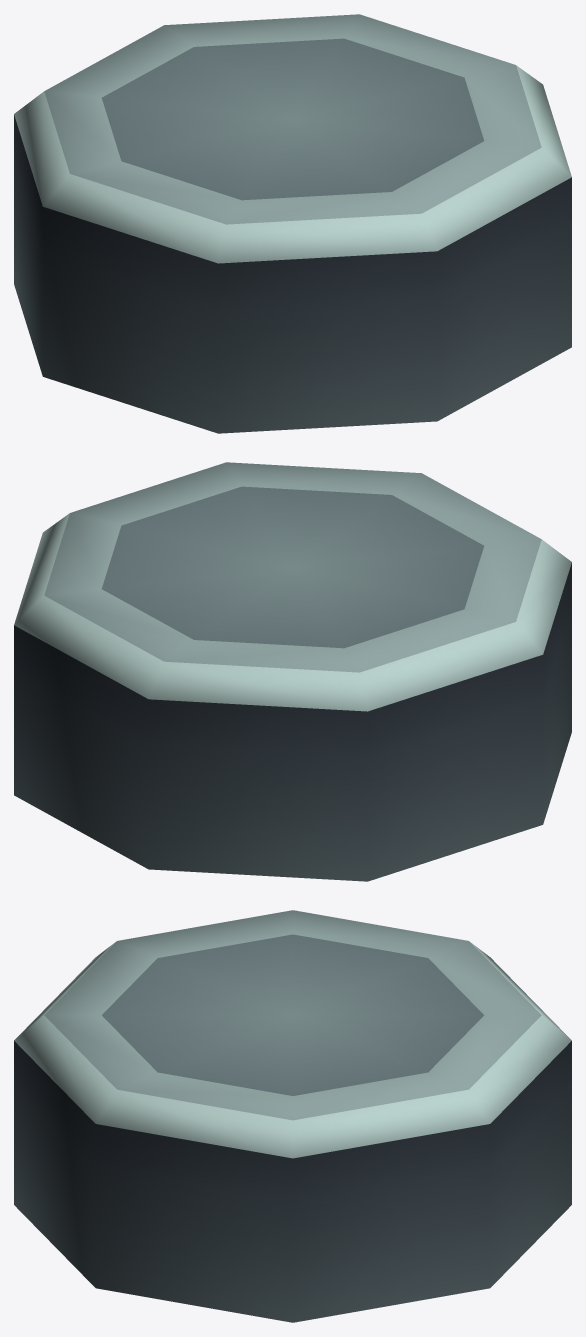
The model's file is drain.fbx.
3 views of the same model, one above another, from view 1: azimuth 30°, elevation 25°; view 2: azimuth 150°, elevation 25°; view 3: azimuth 270°, elevation 25° (orthographic). The views are drawn at different scales.
Parts seen in each view (by area): view 1: drain; view 2: drain; view 3: drain.
Part boxes in pixels (bbox=[...]): drain: bbox=[14, 14, 571, 433]; drain: bbox=[14, 462, 571, 881]; drain: bbox=[14, 910, 571, 1322].
Size of the model in its own units: 100 by 37.5 by 100.
